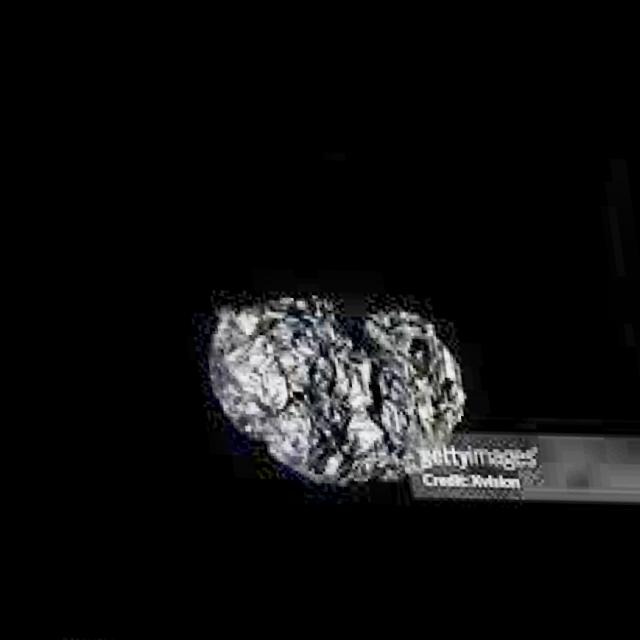Foil: (126, 212, 515, 561)
